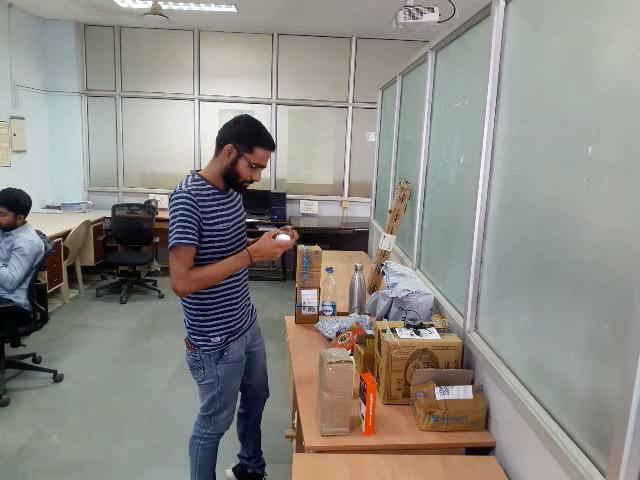Normal: (118, 50, 640, 480)
